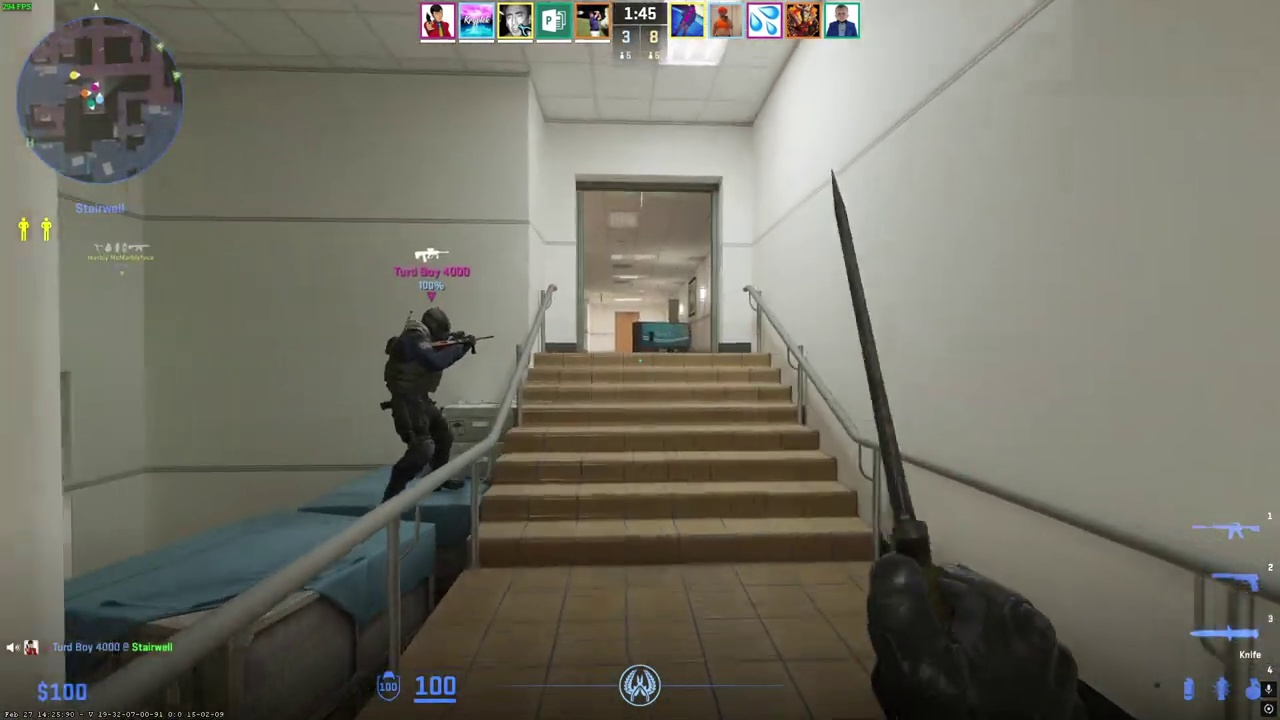CT: (383, 307, 466, 497)
